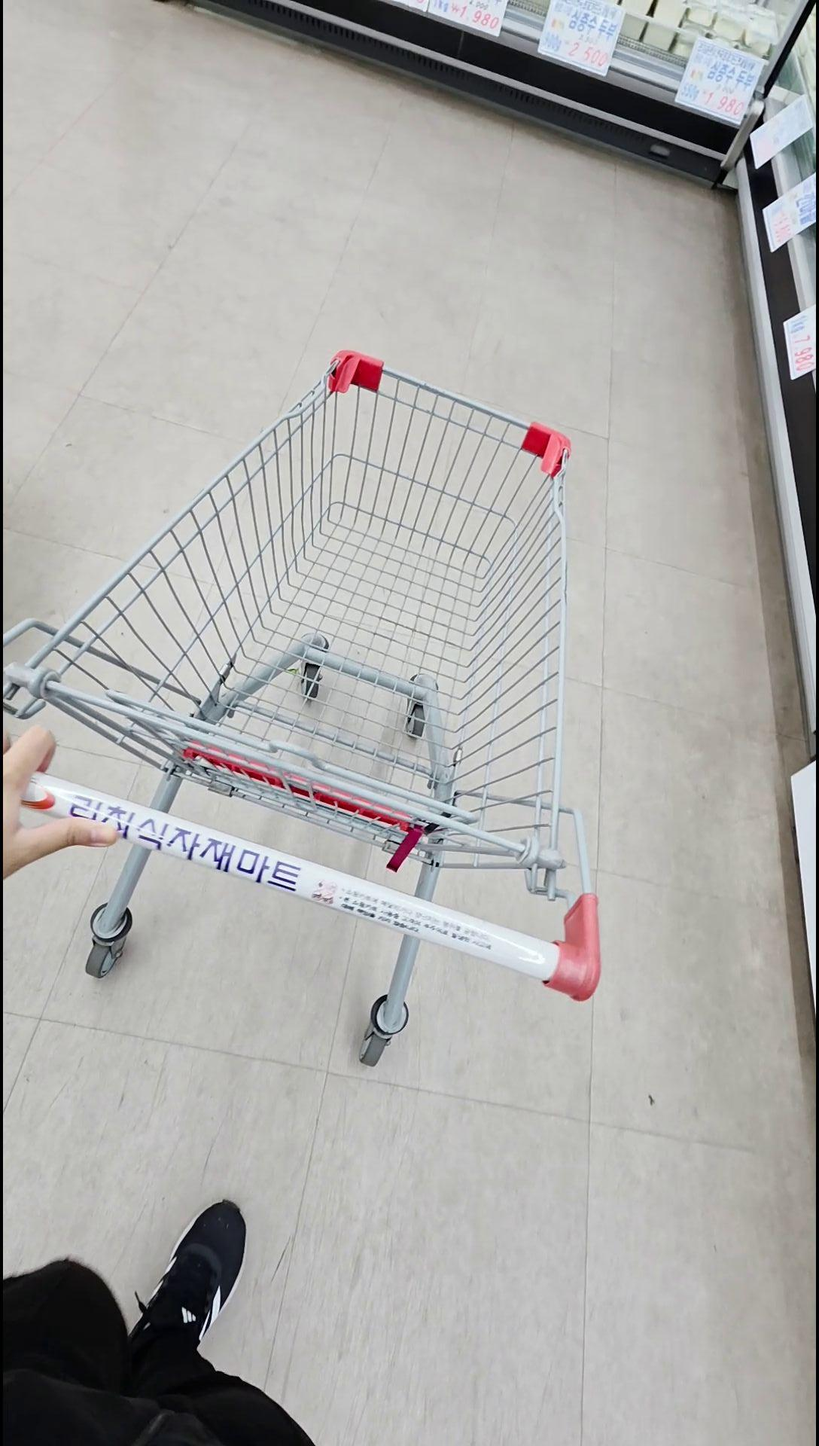empty_cart: (0, 349, 596, 1058)
